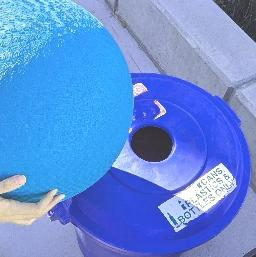algae: (0, 0, 127, 205)
